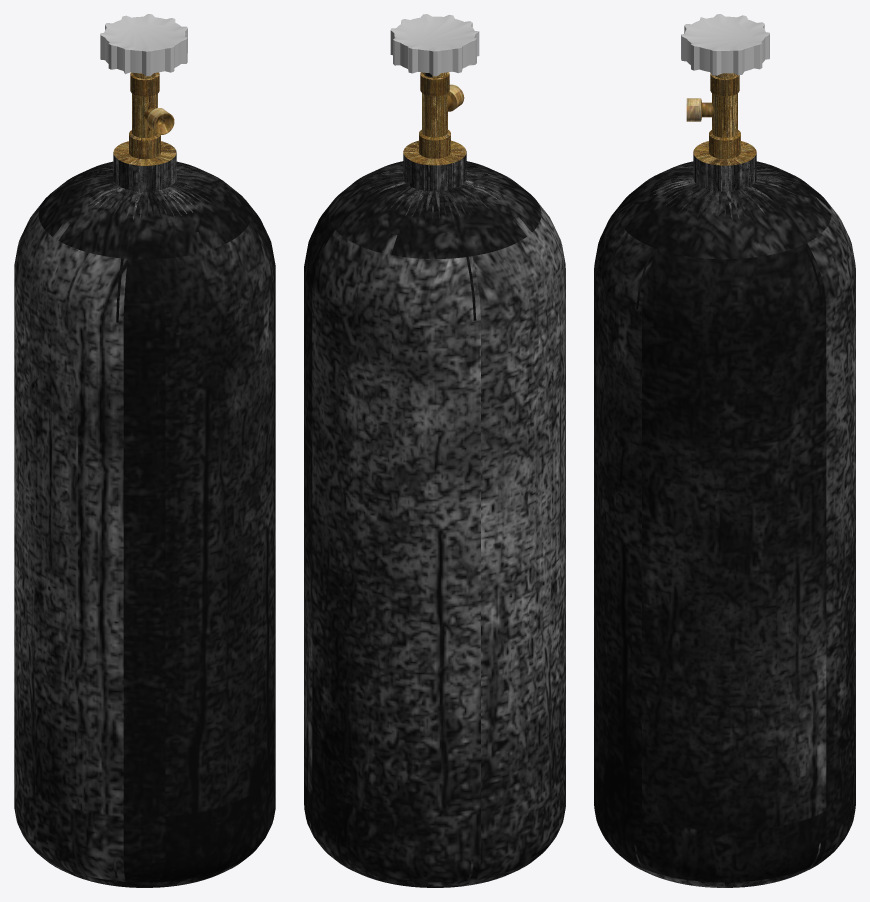
The model's file is Balon_gas_black-2.fbx.
The picture shows the model from 3 angles, left to right: view 1: azimuth 30°, elevation 25°; view 2: azimuth 150°, elevation 25°; view 3: azimuth 270°, elevation 25°; orthographic projection.
Visible parts, largest first — view 1: Cylinder; view 2: Cylinder; view 3: Cylinder.
Boxes of the visible parts, x1,y1,x2,y2 form: Cylinder: [14, 14, 275, 887]; Cylinder: [304, 14, 565, 887]; Cylinder: [594, 14, 855, 887].
Bounding box in the file's own units: 50 × 172 × 50.
